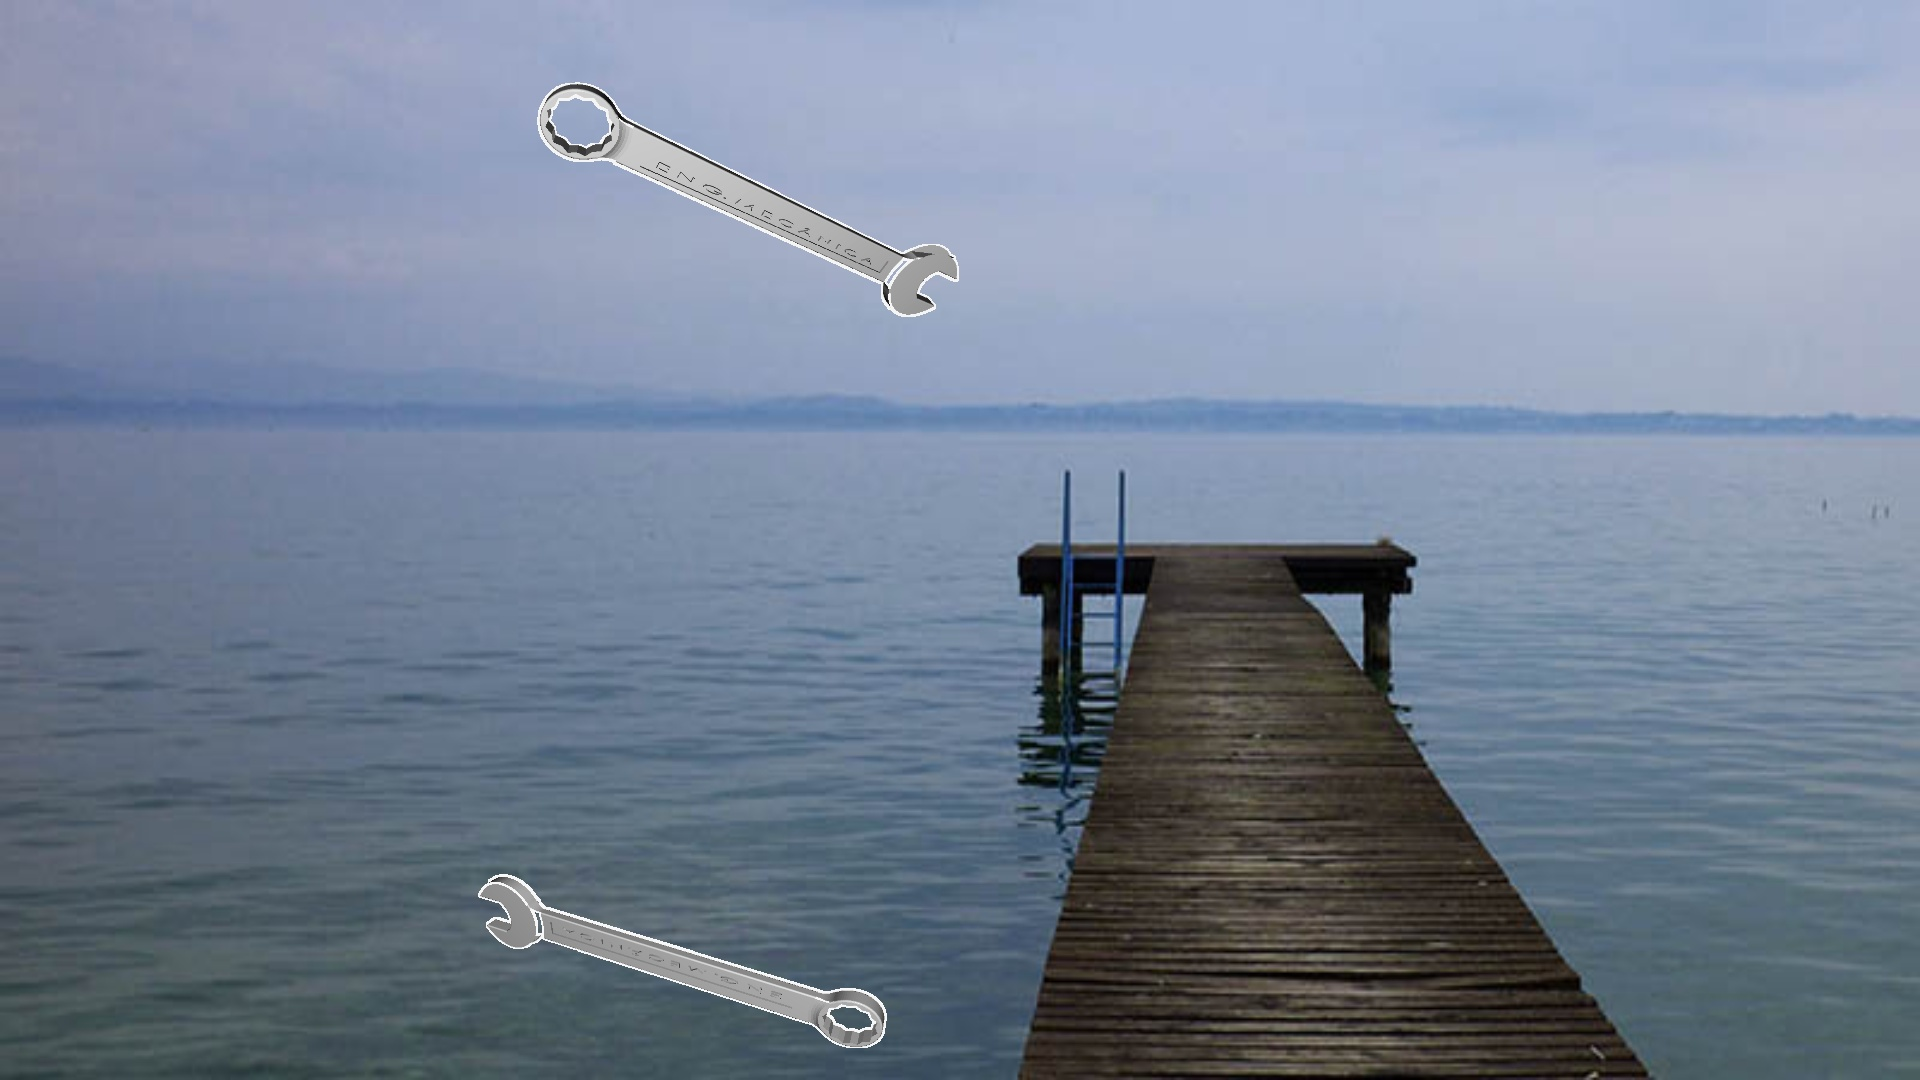Mixed Key: (537, 82, 957, 316), (477, 874, 886, 1047)
